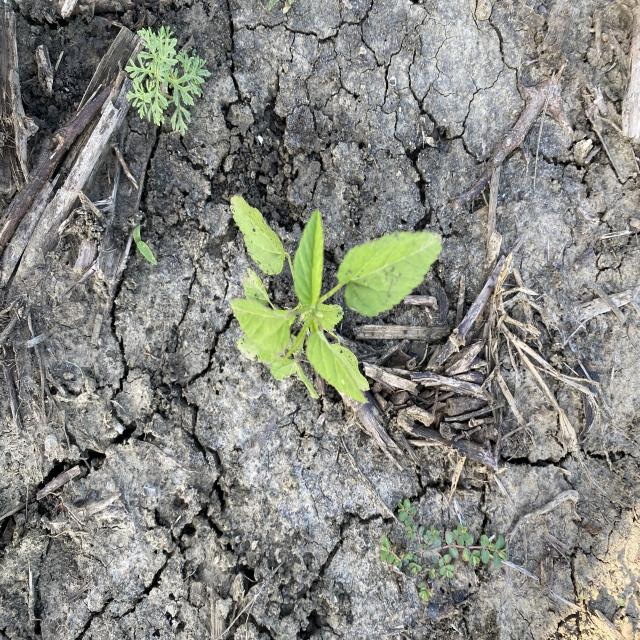PricklySida: (229, 194, 444, 405)
Ragweed: (125, 23, 213, 138)
SpottedSpurge: (379, 497, 509, 604)
